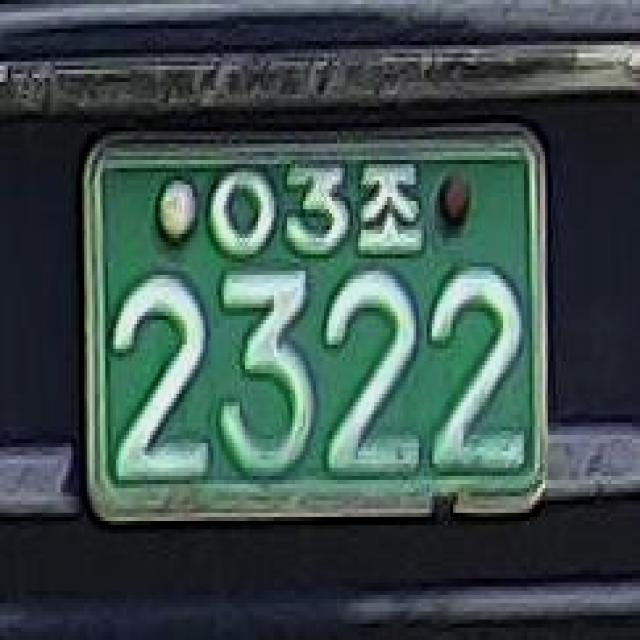illegal_plate: (61, 111, 565, 549)
